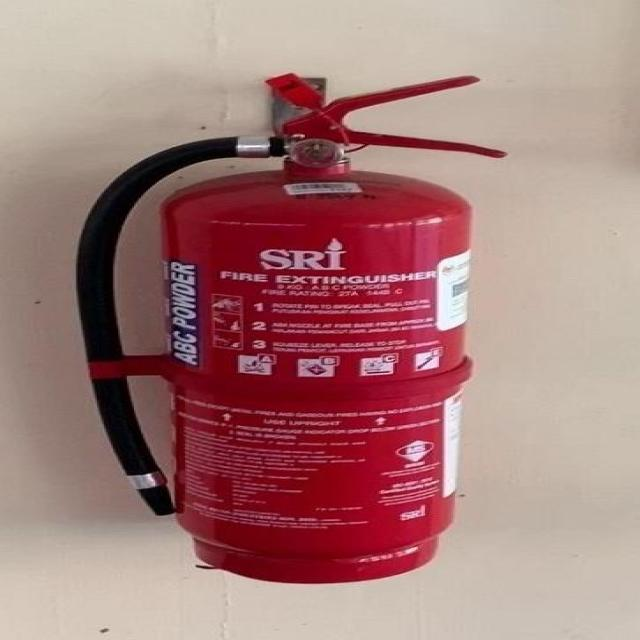fire_extinguisher: (62, 69, 524, 588)
